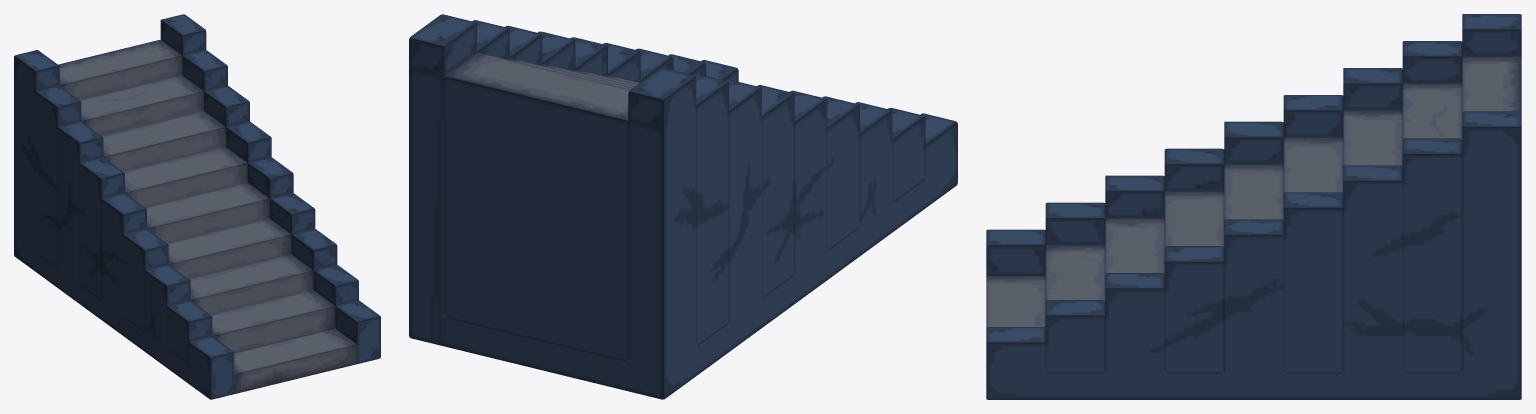
Rendered from StairsBB.fbx.
3 renders of one model, left to right at view 1: azimuth 30°, elevation 25°; view 2: azimuth 150°, elevation 25°; view 3: azimuth 270°, elevation 25°, orthographic. The views are drawn at different scales.
Visible parts, largest first — view 1: cuboid; view 2: cuboid; view 3: cuboid.
Part boxes in pixels (<box>): cuboid: <box>14,14,380,399</box>; cuboid: <box>409,14,957,399</box>; cuboid: <box>986,14,1521,399</box>.
Size of the model in its own units: 450 by 506 by 900.
Materials: 1 (1 with a texture image).
